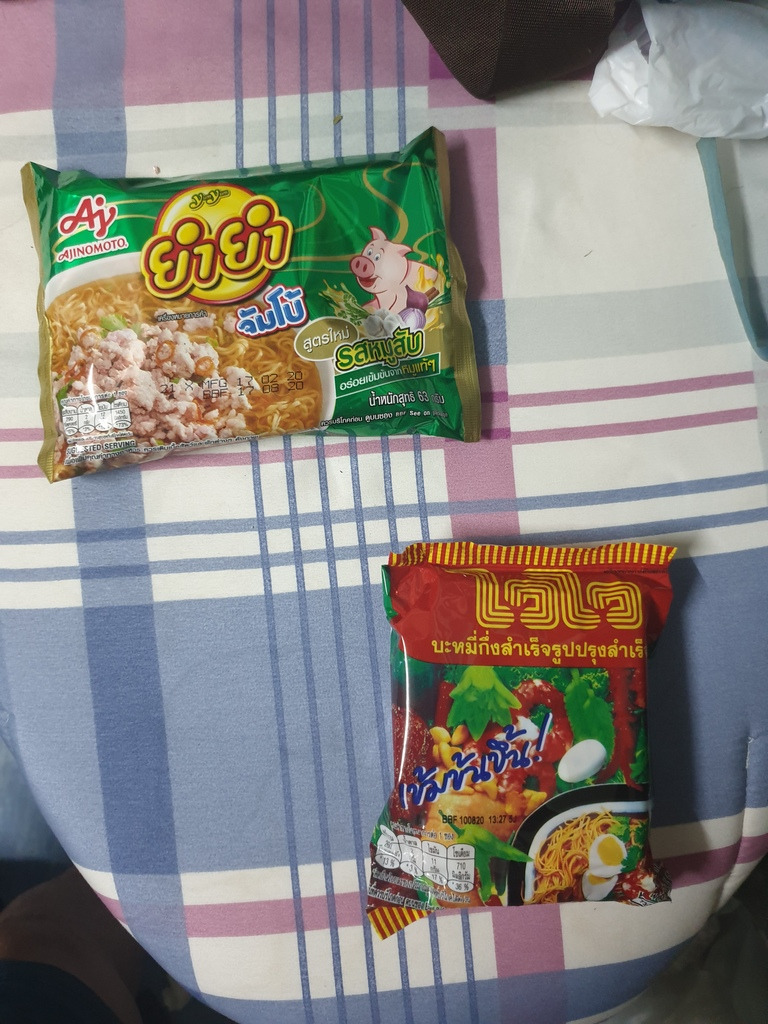waiwai: (379, 541, 673, 917)
yumyum: (17, 158, 501, 464)
